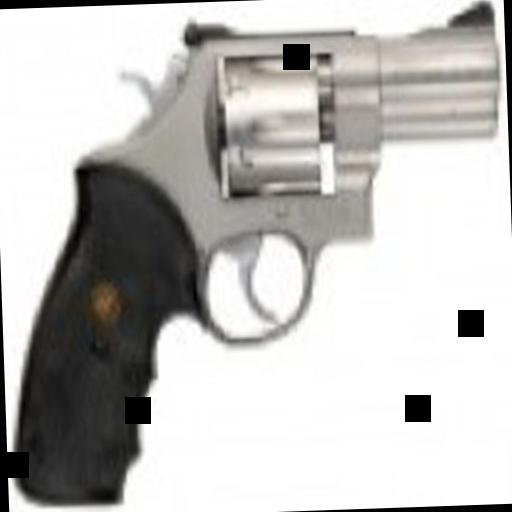Handgun: (0, 0, 511, 493)
